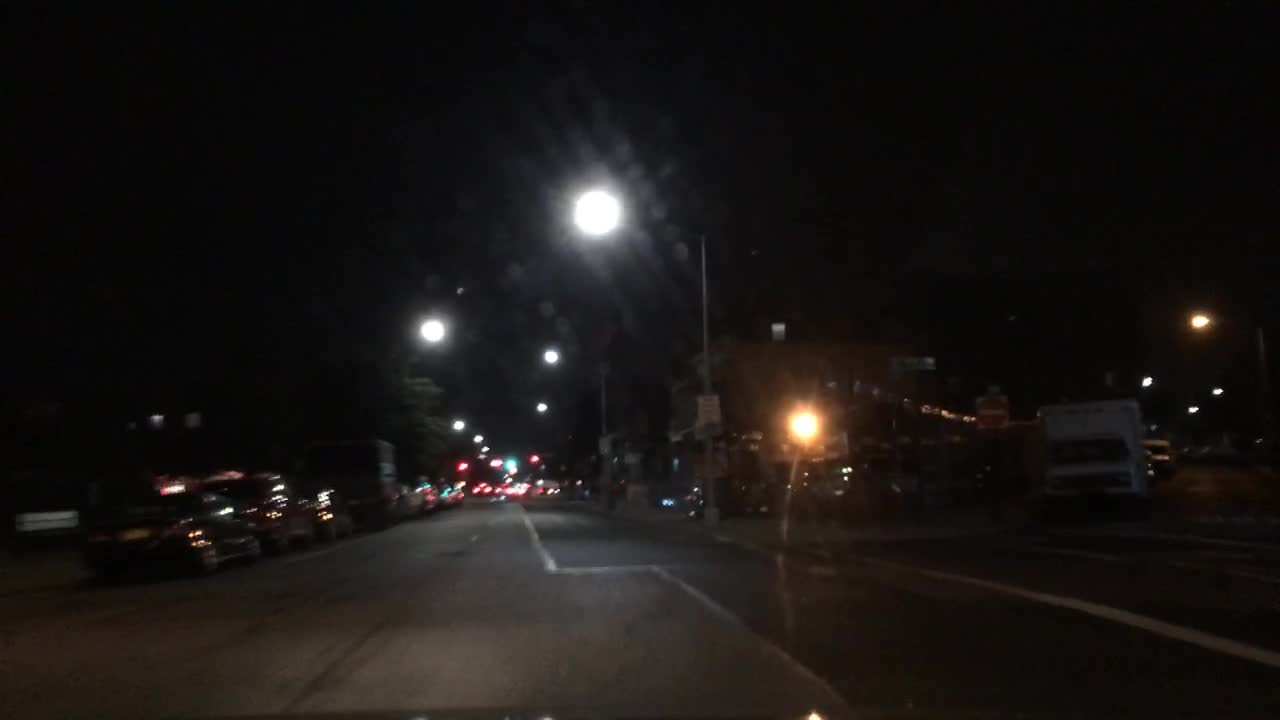car: (72, 473, 261, 584), (200, 468, 319, 556), (808, 466, 903, 515), (288, 485, 356, 544), (716, 475, 772, 516), (652, 480, 703, 518), (1144, 434, 1179, 478), (395, 483, 423, 520), (415, 483, 441, 511), (1185, 437, 1213, 456), (438, 486, 462, 506), (467, 481, 496, 496), (610, 470, 621, 498), (501, 483, 522, 497), (545, 483, 560, 495)
traffic sign: (970, 396, 1006, 431), (696, 395, 720, 425), (597, 435, 609, 458)
truck: (1036, 397, 1152, 520), (313, 436, 400, 531)
